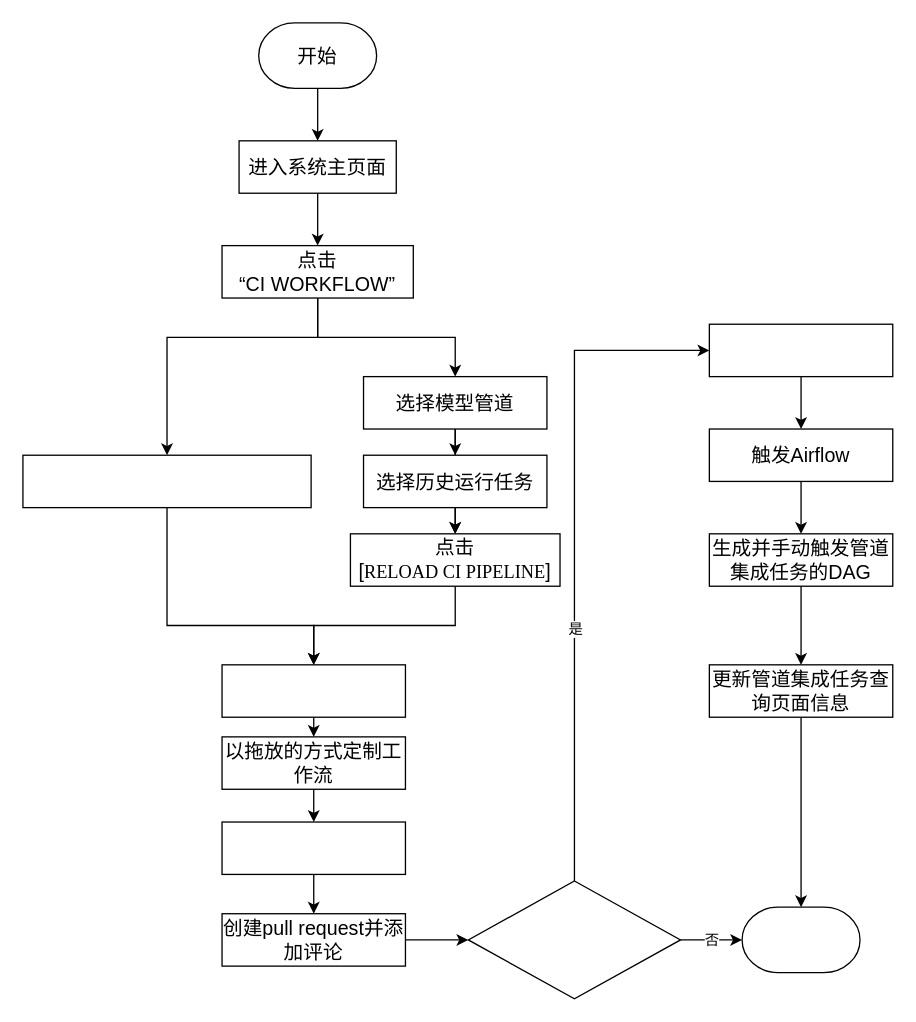
The diagram is 916 pixels wide and 1022 high, and some of its shapes have lost their labels. Here are the shapes that lost their labels. From the top down, the box of each, then its label:
(708, 323, 893, 377): Jenkins感应评论
(22, 454, 311, 508): 点击 [CREATE MODEL PIPELINE]
(221, 664, 405, 717): 填写模型信息
(221, 821, 405, 874): 创建json格式的配置文件
(467, 880, 681, 999): pull request 是否创建成功
(741, 906, 860, 973): 结束
